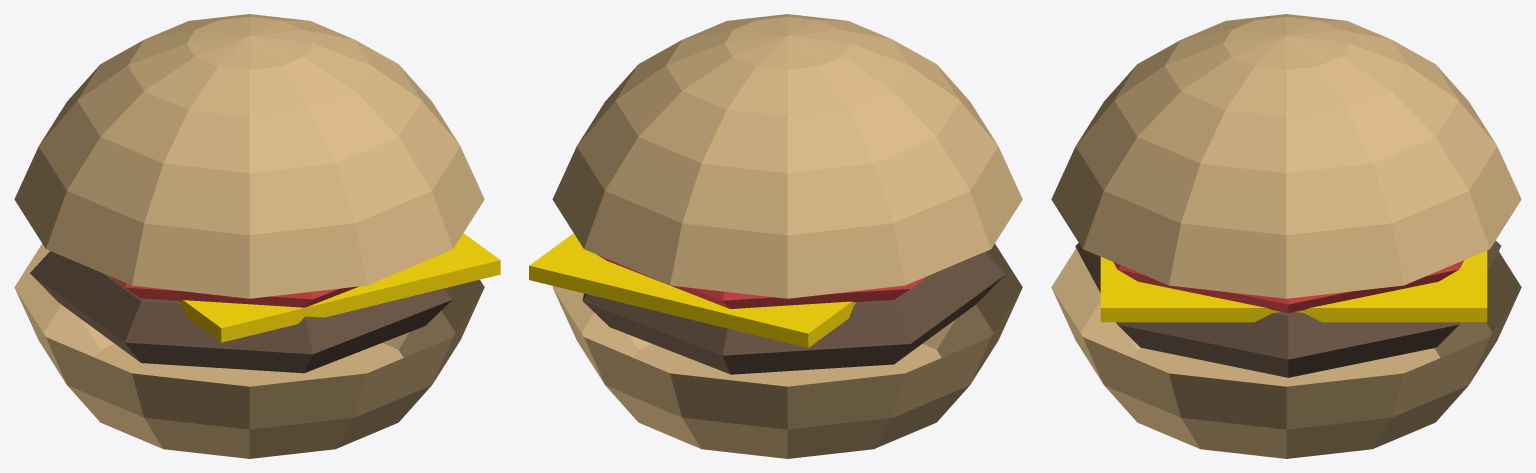
File: BURGER.fbx
The picture shows the model from 3 angles, left to right: view 1: azimuth 30°, elevation 25°; view 2: azimuth 150°, elevation 25°; view 3: azimuth 270°, elevation 25°; orthographic projection.
Visible parts, largest first — view 1: BURGER; view 2: BURGER; view 3: BURGER.
Boxes of the visible parts, x1,y1,x2,y2 form: BURGER: (14, 14, 500, 458); BURGER: (529, 14, 1022, 458); BURGER: (1051, 14, 1521, 458).
Bounding box in the file's own units: 193 × 159 × 193.
